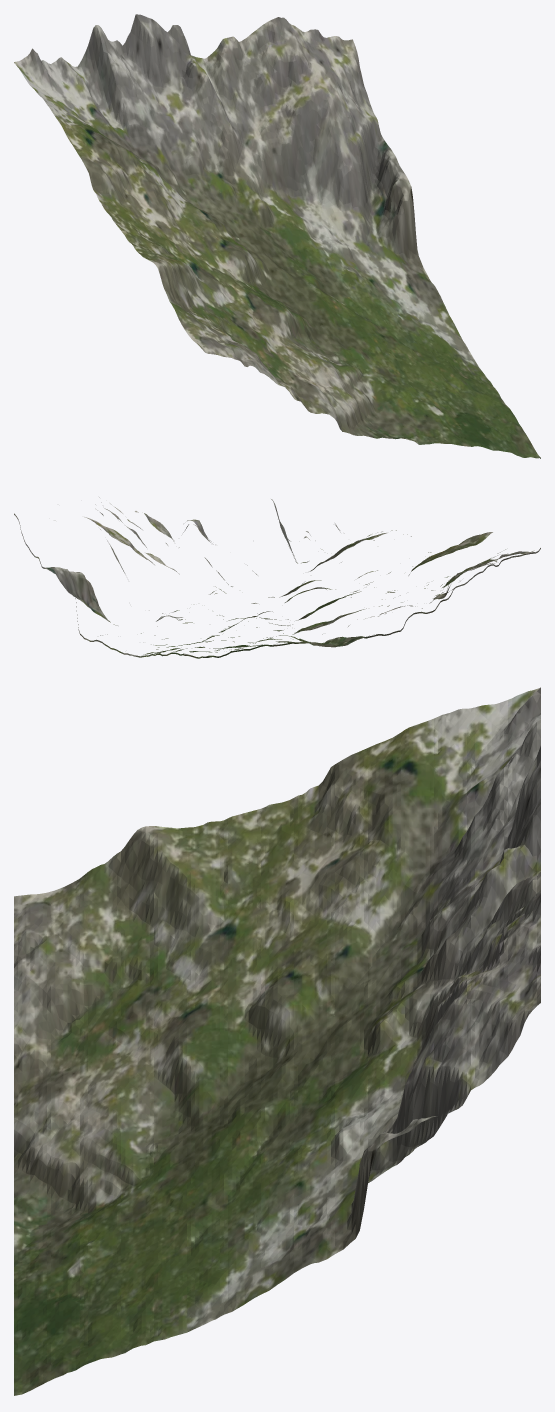
The picture shows the model from 3 angles, top to bottom: view 1: azimuth 30°, elevation 25°; view 2: azimuth 150°, elevation 25°; view 3: azimuth 270°, elevation 25°; orthographic projection. The views are drawn at different scales.
Bounding box in the file's own units: 250 × 254 × 241.
Materials: 1 (1 with a texture image).
